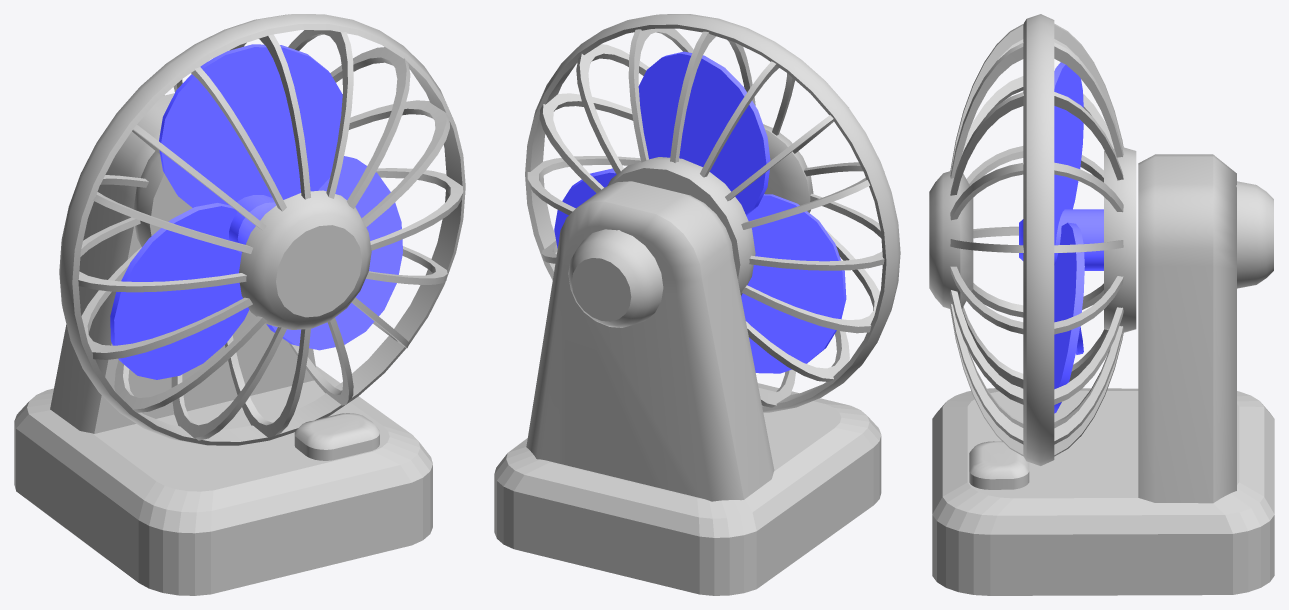
Rendered from fan-uncut.fbx.
The picture shows the model from 3 angles, left to right: view 1: azimuth 30°, elevation 25°; view 2: azimuth 150°, elevation 25°; view 3: azimuth 270°, elevation 25°; orthographic projection. The views are drawn at different scales.
Visible parts, largest first — view 1: itemA_pCylinder98, itemA_pTorus16, itemA_pCylinder71, itemA_pCylinder99, itemA_pCylinder73, itemA_pCylinder68, itemA_pCylinder72, itemA_pTorus11, itemA_pTorus8, itemA_pTorus4, itemA_pTorus12, itemA_pTorus5 (+6 smaller); view 2: itemA_pCylinder99, itemA_pCylinder98, itemA_pTorus16, itemA_pCylinder71, itemA_pCylinder73, itemA_pCylinder100, itemA_pCylinder69, itemA_pTorus11, itemA_pTorus8, itemA_pTorus4, itemA_pTorus12, itemA_pCylinder68 (+5 smaller); view 3: itemA_pCylinder98, itemA_pCylinder99, itemA_pTorus16, itemA_pCylinder69, itemA_pCylinder68, itemA_pTorus10, itemA_pTorus12, itemA_pTorus9, itemA_pTorus5, itemA_pCylinder72, itemA_pCylinder100, itemA_pCylinder71 (+6 smaller).
Part boxes in pixels (box(x1,y1,x2,y2)): itemA_pCylinder98: box(14, 366, 432, 595); itemA_pTorus16: box(59, 14, 465, 445); itemA_pCylinder71: box(159, 44, 342, 207); itemA_pCylinder99: box(50, 93, 315, 433); itemA_pCylinder73: box(110, 203, 249, 379); itemA_pCylinder68: box(239, 190, 371, 329); itemA_pCylinder72: box(266, 156, 402, 350); itemA_pTorus11: box(81, 100, 449, 359); itemA_pTorus8: box(114, 47, 410, 412); itemA_pTorus4: box(78, 168, 463, 292); itemA_pTorus12: box(171, 30, 353, 440); itemA_pTorus5: box(225, 34, 310, 437); itemA_pCylinder99: box(526, 181, 774, 501); itemA_pCylinder98: box(494, 383, 881, 595); itemA_pTorus16: box(525, 14, 900, 412); itemA_pCylinder71: box(638, 51, 770, 215); itemA_pCylinder73: box(741, 194, 846, 373); itemA_pCylinder100: box(568, 229, 663, 327); itemA_pCylinder69: box(607, 157, 755, 295); itemA_pTorus11: box(539, 93, 879, 333); itemA_pTorus8: box(576, 44, 849, 381); itemA_pTorus4: box(527, 156, 884, 270); itemA_pTorus12: box(628, 28, 795, 407); itemA_pCylinder68: box(763, 124, 813, 212); itemA_pCylinder98: box(932, 388, 1274, 595); itemA_pCylinder99: box(1138, 154, 1236, 503); itemA_pTorus16: box(1023, 14, 1054, 465); itemA_pCylinder69: box(1104, 147, 1136, 332); itemA_pCylinder68: box(929, 171, 973, 308); itemA_pTorus10: box(950, 76, 1123, 404); itemA_pTorus12: box(950, 92, 1123, 388); itemA_pTorus9: box(950, 23, 1123, 456); itemA_pTorus5: box(950, 42, 1123, 428); itemA_pCylinder72: box(1054, 222, 1084, 413); itemA_pCylinder100: box(1236, 181, 1273, 288); itemA_pCylinder71: box(1054, 62, 1083, 245).
Bounding box in the file's own units: 228 × 276 × 174.
